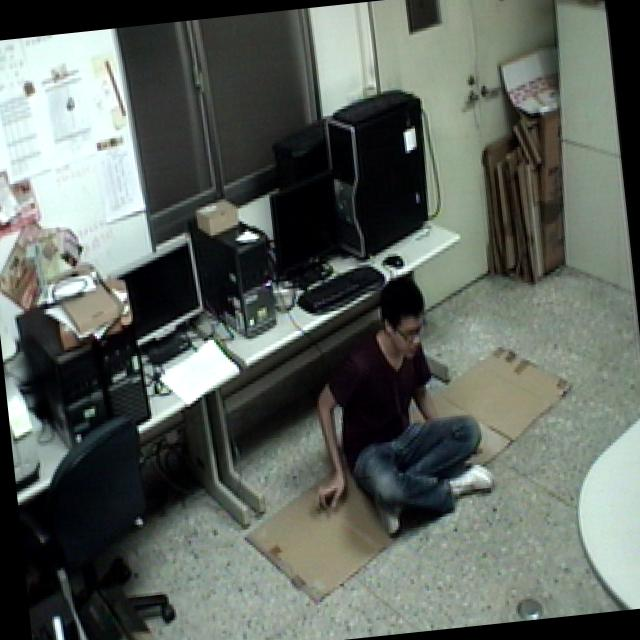sit: (288, 264, 505, 546)
